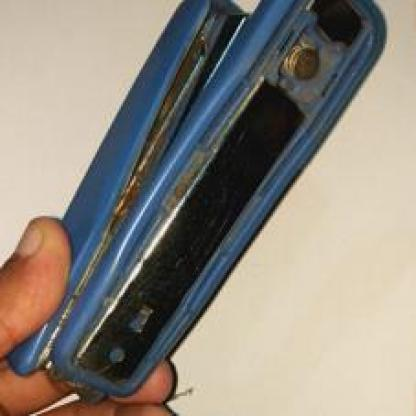stapler: (23, 3, 378, 416)
